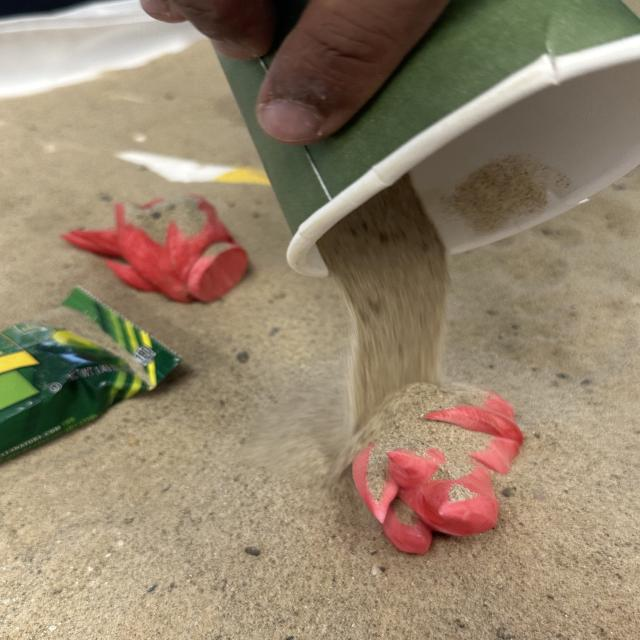fire: (355, 379, 525, 554), (60, 192, 252, 305)
